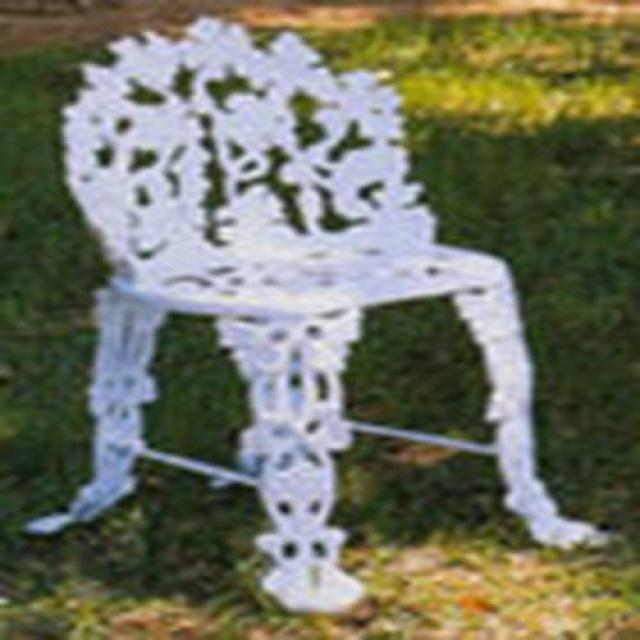chair: (24, 17, 605, 632)
